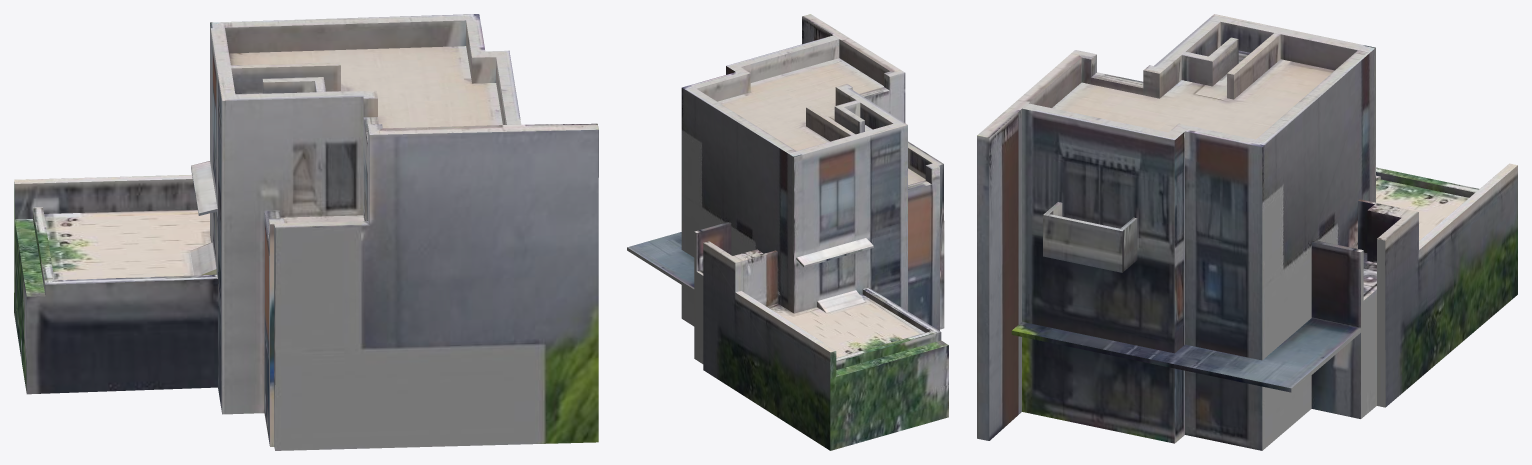
3 renders of one model, left to right at view 1: azimuth 30°, elevation 25°; view 2: azimuth 150°, elevation 25°; view 3: azimuth 270°, elevation 25°, orthographic. The views are drawn at different scales.
Visible parts, largest first — view 1: B287754029701063A0; view 2: B287754029701063A0; view 3: B287754029701063A0.
Boxes of the visible parts, x1,y1,x2,y2 form: B287754029701063A0: (14, 14, 598, 450); B287754029701063A0: (627, 14, 948, 450); B287754029701063A0: (977, 14, 1517, 450).
Bounding box in the file's own units: 19.01 × 12.25 × 19.7.
Materials: 1 (1 with a texture image).
